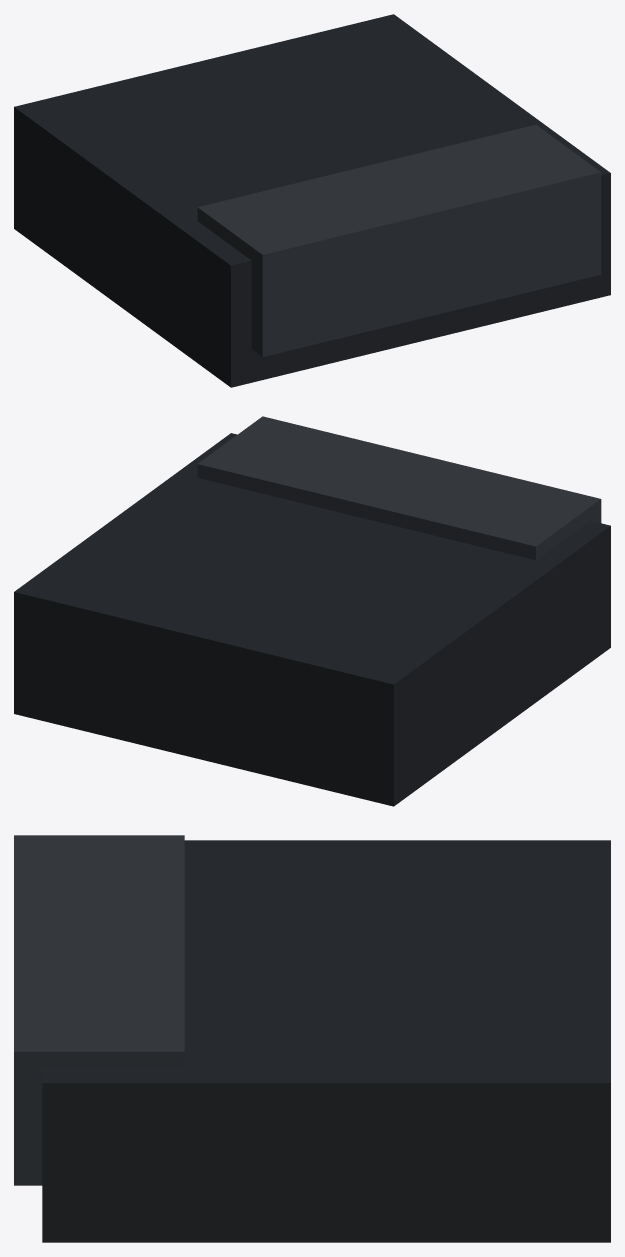
The model's file is inf_warden_foot.fbx.
3 renders of one model, top to bottom at view 1: azimuth 30°, elevation 25°; view 2: azimuth 150°, elevation 25°; view 3: azimuth 270°, elevation 25°, orthographic. The views are drawn at different scales.
Parts seen in each view (by area): view 1: inf_warden_foot; view 2: inf_warden_foot; view 3: inf_warden_foot.
Boxes of the visible parts, left/top/right/bottom form: inf_warden_foot: left=14, top=14, right=610, bottom=387; inf_warden_foot: left=14, top=416, right=610, bottom=806; inf_warden_foot: left=14, top=835, right=610, bottom=1242.
Bounding box in the file's own units: 101 × 34.5 × 105.
